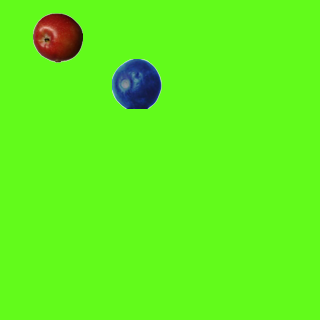Apple Braeburn: (32, 12, 82, 62)
Huckleberry: (111, 58, 161, 108)
